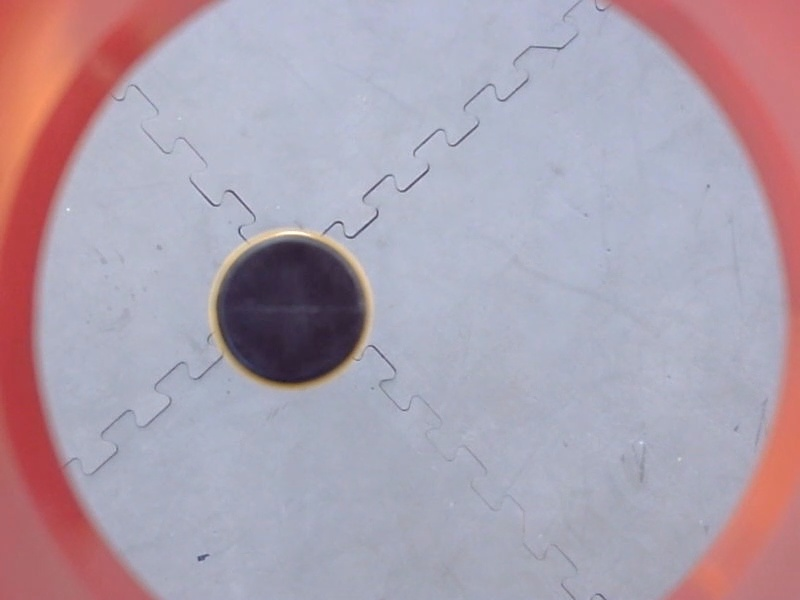tip: (201, 223, 381, 401)
